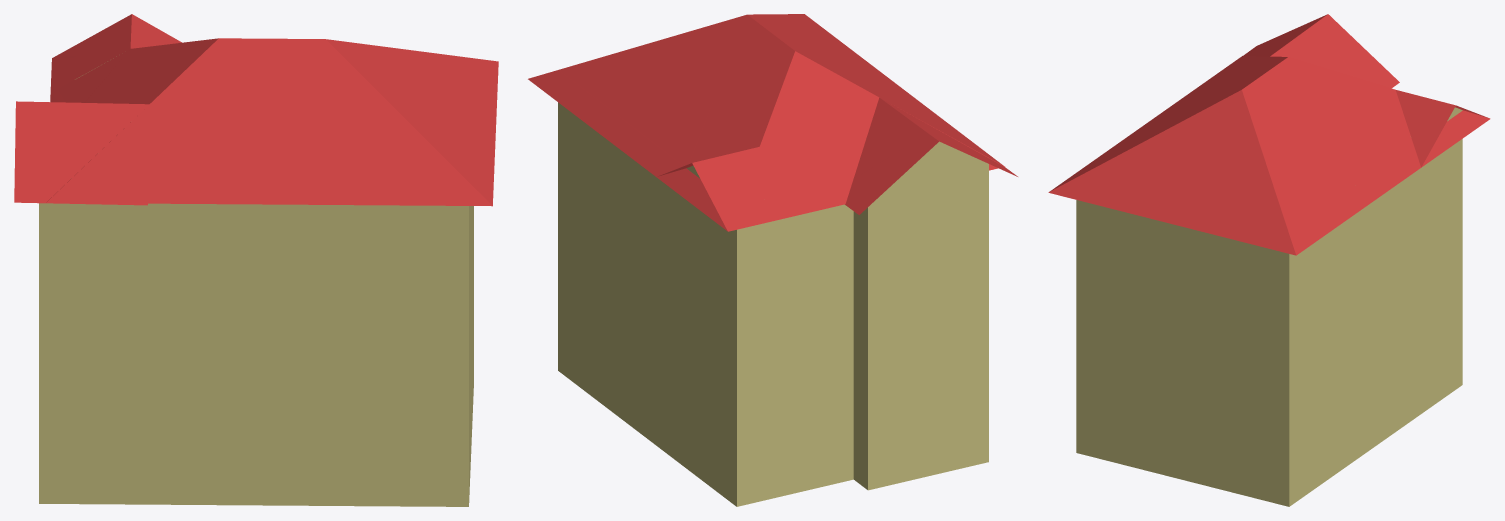
The picture shows the model from 3 angles, left to right: view 1: azimuth 30°, elevation 25°; view 2: azimuth 150°, elevation 25°; view 3: azimuth 270°, elevation 25°; orthographic projection. The views are drawn at different scales.
Parts seen in each view (by area): view 1: group_13, group_11, group_5, group_3, group_12, group_7, group_4; view 2: group_5, group_13, group_11, group_9, group_12, group_3, group_7, group_8, group_4; view 3: group_13, group_11, group_9, group_12, group_3, group_7, group_4.
Part boxes in pixels (x1,y1,x2,y2): group_13: (148, 203, 473, 506); group_11: (46, 38, 498, 206); group_5: (39, 203, 148, 504); group_3: (14, 101, 148, 205); group_12: (47, 56, 498, 205); group_7: (50, 14, 181, 92); group_4: (14, 108, 146, 205); group_5: (834, 141, 988, 490); group_13: (558, 102, 833, 495); group_11: (532, 14, 1004, 230); group_9: (676, 165, 784, 506); group_12: (528, 14, 997, 231); group_3: (845, 97, 1017, 214); group_7: (692, 147, 795, 231); group_8: (658, 163, 794, 231); group_4: (845, 145, 1017, 214); group_13: (1076, 180, 1403, 506); group_11: (1048, 55, 1478, 255); group_9: (1403, 107, 1462, 425); group_12: (1050, 56, 1490, 255); group_3: (1244, 14, 1399, 82); group_7: (1395, 90, 1487, 167); group_4: (1244, 17, 1399, 88).
Bounding box in the file's own units: 24.16 × 21.57 × 18.51.
